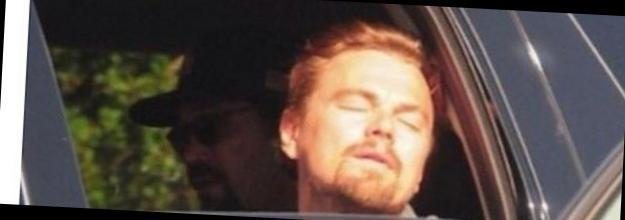Drunk: (318, 53, 429, 207)
